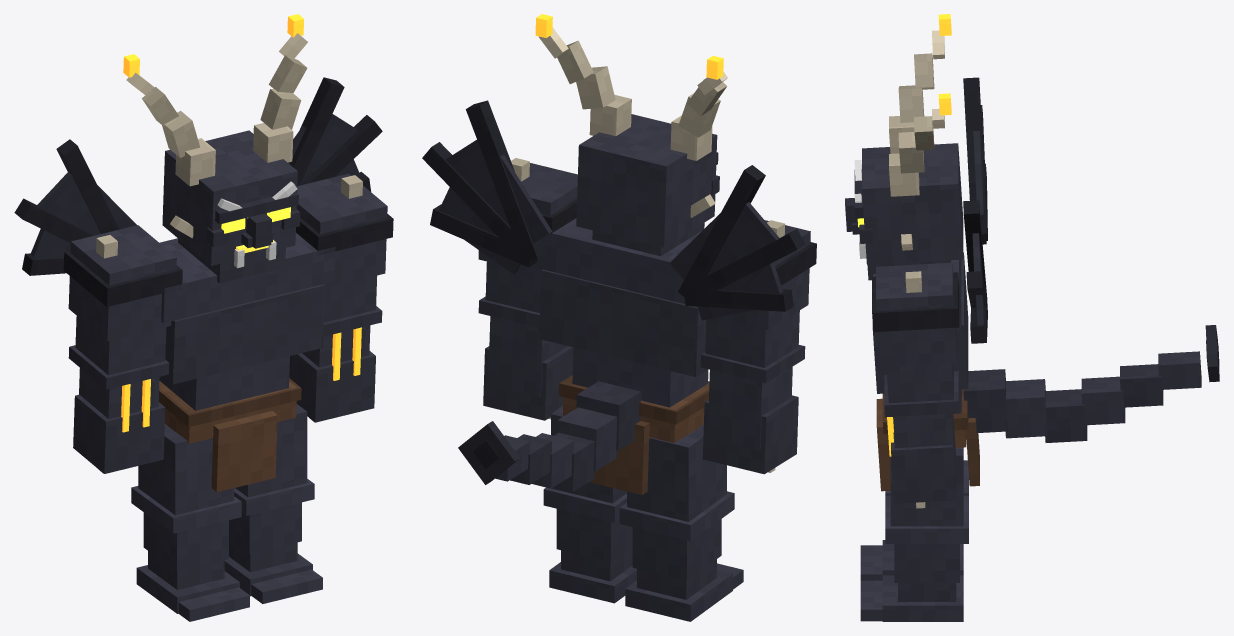
The model's file is demon_base_v3_evo1.glb.
3 views of the same model, side by side, from view 1: azimuth 30°, elevation 25°; view 2: azimuth 150°, elevation 25°; view 3: azimuth 270°, elevation 25° (orthographic). The views are drawn at different scales.
Visible parts, largest first — view 1: Torso, Head, ArmR, ArmL, LegR, LegL; view 2: Torso, Head, ArmR, LegR, ArmL, LegL; view 3: Torso, ArmL, Head, LegL, LegR.
Boxes of the visible parts, x1,y1,x2,y2 form: Torso: (14,77,382,492); Head: (123,14,307,283); ArmR: (63,225,182,473); ArmL: (289,173,393,422); LegR: (131,424,249,621); LegL: (224,404,322,603); Torso: (422,100,805,494); Head: (535,14,727,256); ArmR: (700,220,816,474); LegR: (619,424,743,621); ArmL: (478,158,577,420); LegL: (543,405,636,603); Torso: (872,77,1219,491); ArmL: (872,262,959,508); Head: (845,14,963,280); LegL: (860,447,968,621); LegR: (860,460,968,580).
Size of the model in its own units: 1.58 by 2.25 by 1.44.
28 materials, 28 textured.
